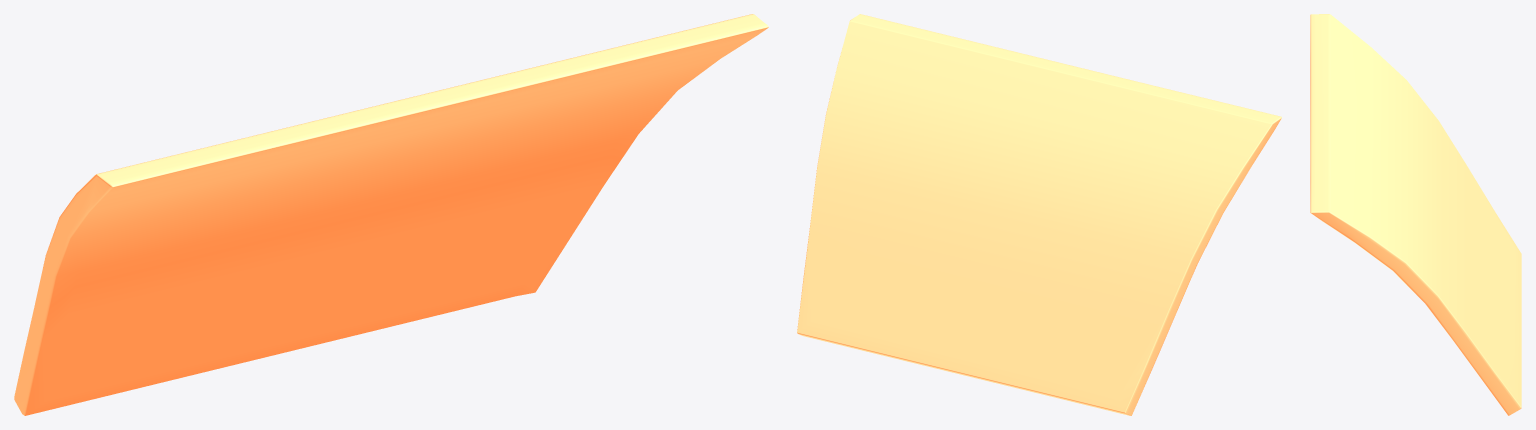
Rendered from SM_Wall_CannonStern03.fbx.
3 views of the same model, side by side, from view 1: azimuth 30°, elevation 25°; view 2: azimuth 150°, elevation 25°; view 3: azimuth 270°, elevation 25° (orthographic). The views are drawn at different scales.
Parts seen in each view (by area): view 1: SM_Wall_CannonStern03_LOD0; view 2: SM_Wall_CannonStern03_LOD0; view 3: SM_Wall_CannonStern03_LOD0.
Boxes of the visible parts, box(x1,y1,x2,y2) form: SM_Wall_CannonStern03_LOD0: box(14, 14, 768, 415); SM_Wall_CannonStern03_LOD0: box(797, 14, 1281, 415); SM_Wall_CannonStern03_LOD0: box(1310, 14, 1521, 415).
Size of the model in its own units: 571 by 258 by 304.
